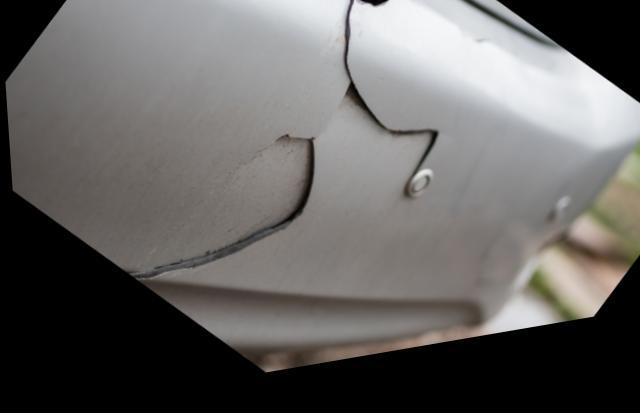crack: (122, 0, 431, 280)
